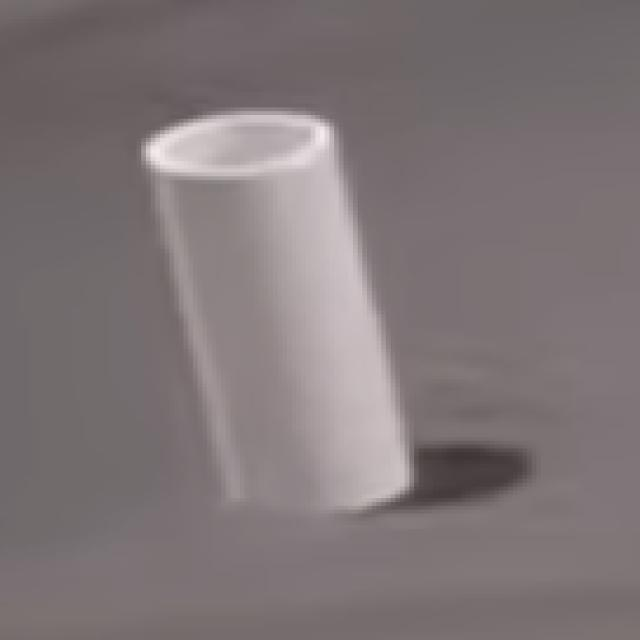Coral: (137, 108, 418, 516)
